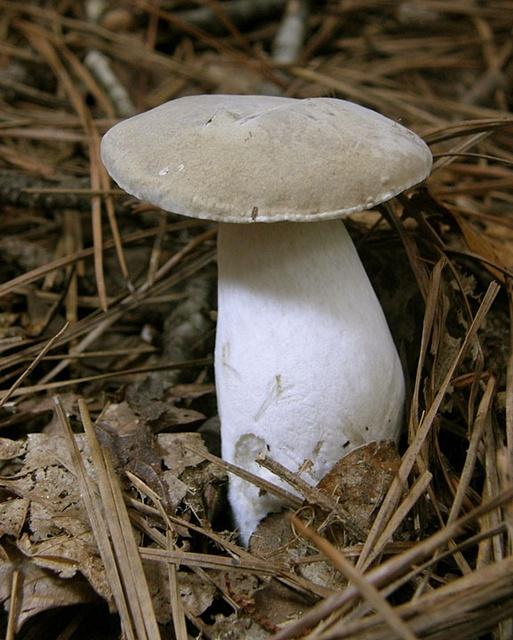Edible Mushroom: (98, 91, 434, 547)
